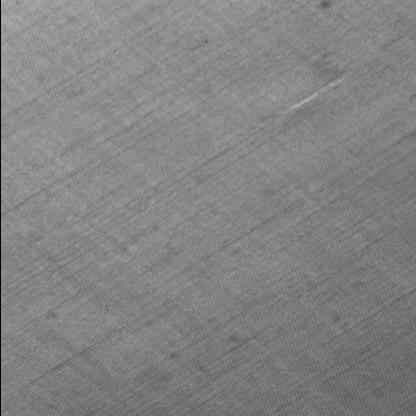thread error: (272, 60, 350, 116)
